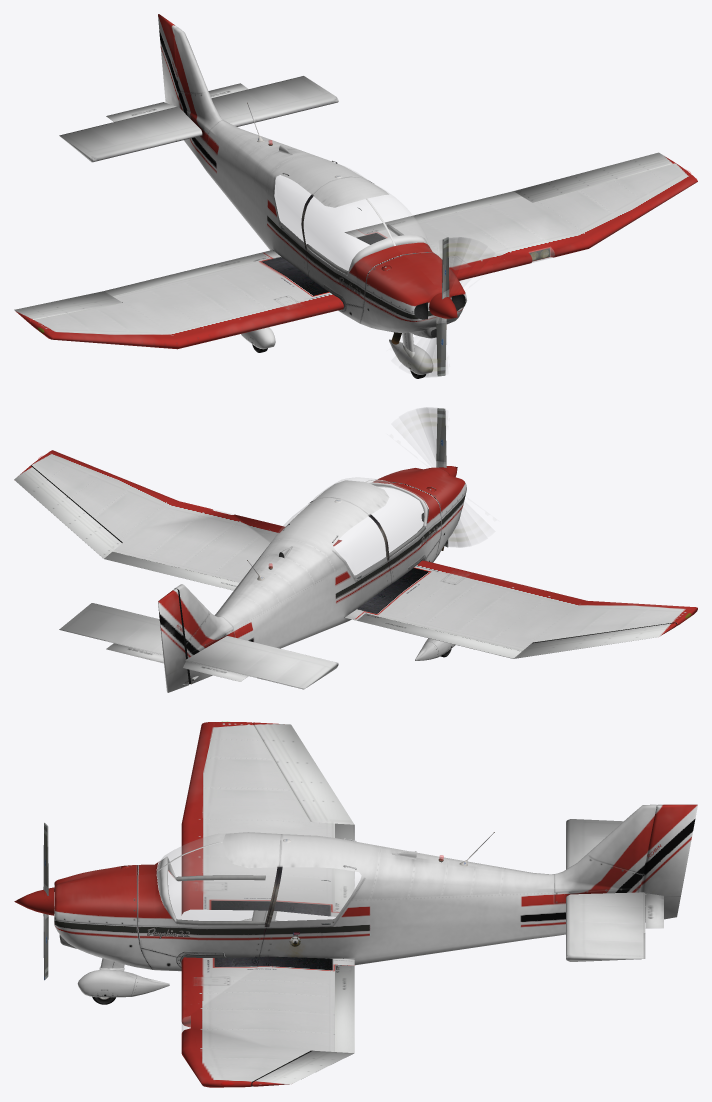
The picture shows the model from 3 angles, top to bottom: view 1: azimuth 30°, elevation 25°; view 2: azimuth 150°, elevation 25°; view 3: azimuth 270°, elevation 25°; orthographic projection. The views are drawn at different scales.
Visible parts, largest first — view 1: ailes, fuselage, profondeur, verriere, aileronG, toitverriere, aileronD, verriereAR, direction, voletD, voletG, propblur (+4 smaller); view 2: ailes, fuselage, profondeur, aileronG, verriere, direction, verriereAR, aileronD, voletD, toitverriere, voletG, trimprof (+5 smaller); view 3: fuselage, ailes, verriere, profondeur, direction, aileronD, verriereAR, toitverriere, cacheA, voletG, tourverriere, aileronG (+4 smaller).
Boxes of the visible parts, x1,y1,x2,y2 form: ailes: (30, 163, 697, 349); fuselage: (174, 27, 466, 338); profondeur: (59, 76, 338, 162); verriere: (304, 186, 428, 274); aileronG: (513, 152, 675, 202); toitverriere: (302, 176, 395, 246); aileronD: (14, 291, 121, 323); verriereAR: (274, 166, 367, 241); direction: (158, 14, 179, 107); voletD: (104, 253, 268, 296); voletG: (357, 191, 521, 234); propblur: (422, 238, 465, 376); ailes: (31, 450, 697, 651); fuselage: (175, 467, 466, 684); profondeur: (59, 603, 338, 689); aileronG: (14, 466, 121, 558); verriere: (312, 477, 428, 556); direction: (158, 588, 190, 692); verriereAR: (277, 503, 385, 574); aileronD: (513, 623, 676, 658); voletD: (357, 613, 521, 658); toitverriere: (310, 479, 392, 557); voletG: (104, 552, 239, 590); trimprof: (106, 643, 248, 681); fuselage: (54, 804, 656, 971); ailes: (181, 722, 354, 1087); verriere: (157, 834, 276, 924); profondeur: (566, 819, 645, 961); direction: (639, 804, 697, 922); aileronD: (252, 722, 354, 824); verriereAR: (271, 867, 360, 920); toitverriere: (156, 832, 281, 924); cacheA: (77, 967, 169, 997); voletG: (335, 965, 354, 1053); tourverriere: (156, 856, 265, 925); aileronG: (252, 1050, 353, 1086).
Size of the model in its own units: 8.74 by 2.23 by 6.96.
Materials: 5 (2 with a texture image).
